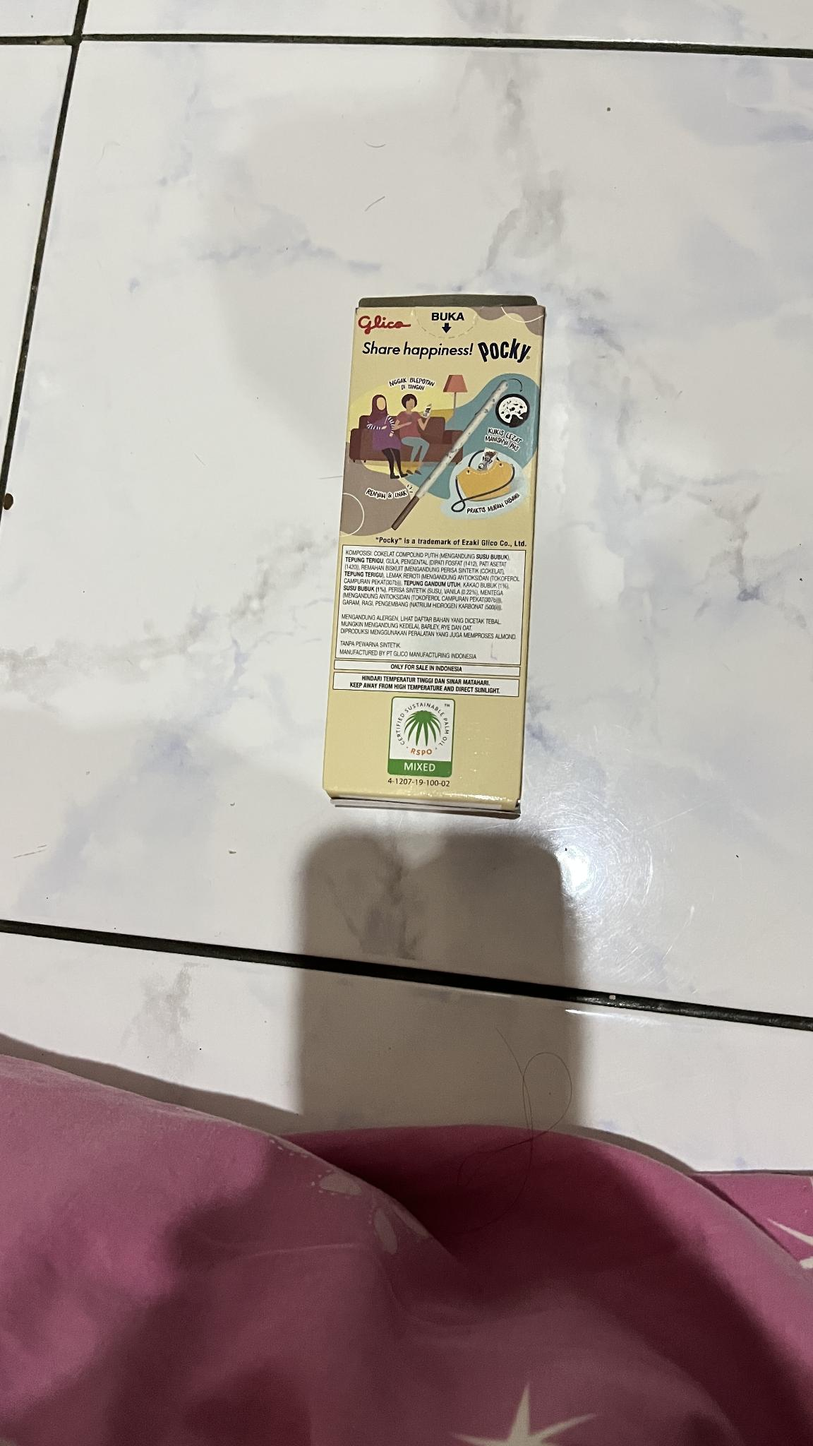Kertas: (312, 280, 545, 832)
